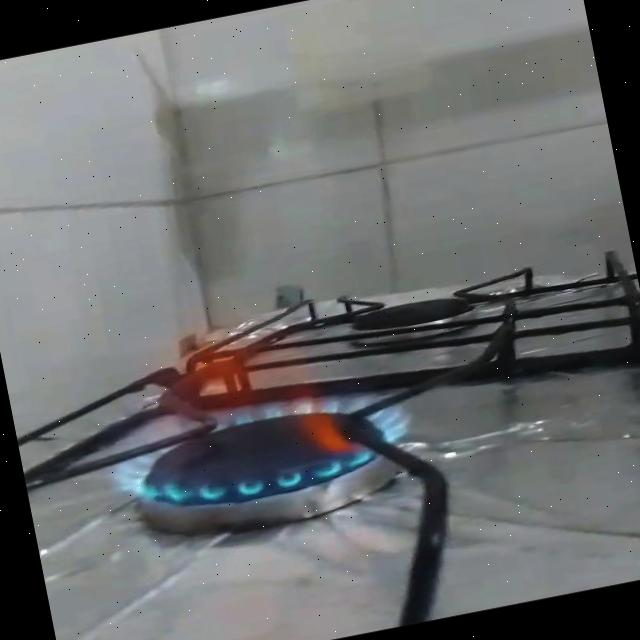fire: (76, 278, 422, 526)
